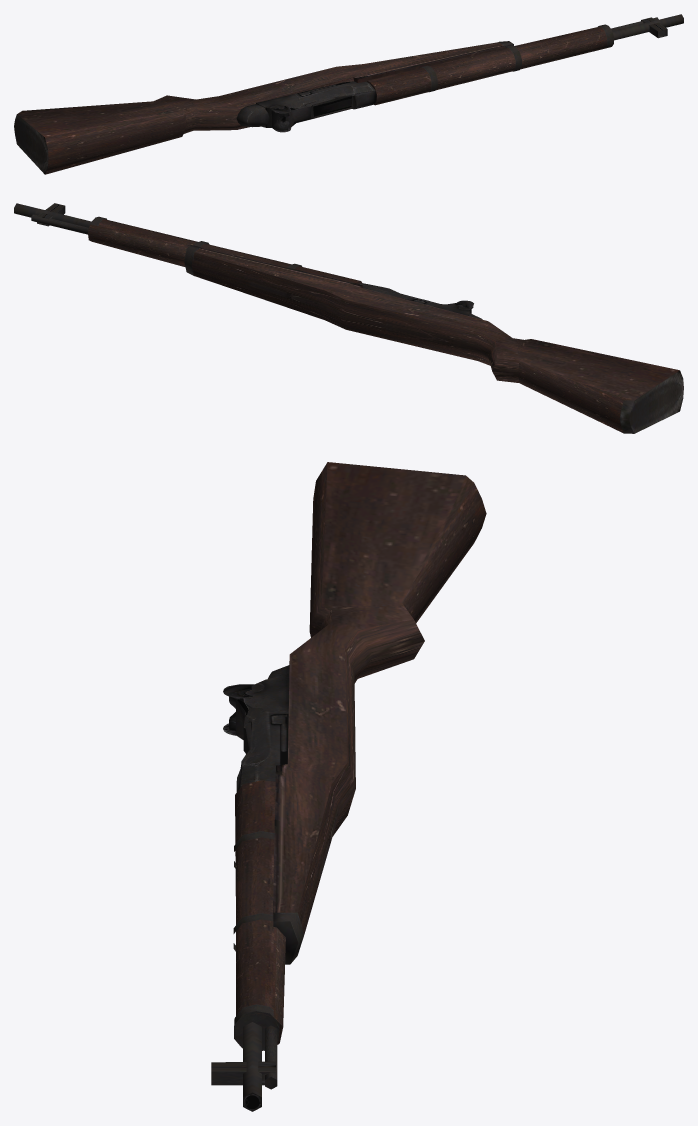
The model's file is weapon_usa_m1garand_rifle_LOD21.obj.
The picture shows the model from 3 angles, top to bottom: view 1: azimuth 30°, elevation 25°; view 2: azimuth 150°, elevation 25°; view 3: azimuth 270°, elevation 25°; orthographic projection. The views are drawn at different scales.
Parts seen in each view (by area): view 1: TomGroup_1, TomGroup_0; view 2: TomGroup_1, TomGroup_0; view 3: TomGroup_1, TomGroup_0.
Part boxes in pixels (bbox=[...]): TomGroup_1: bbox=[14, 26, 611, 174]; TomGroup_0: bbox=[236, 14, 683, 132]; TomGroup_1: bbox=[88, 219, 683, 433]; TomGroup_0: bbox=[14, 203, 482, 319]; TomGroup_1: bbox=[235, 462, 486, 1050]; TomGroup_0: bbox=[211, 665, 303, 1111].
Size of the model in its own units: 110 by 6.31 by 21.13.
Materials: 2 (2 with a texture image).
